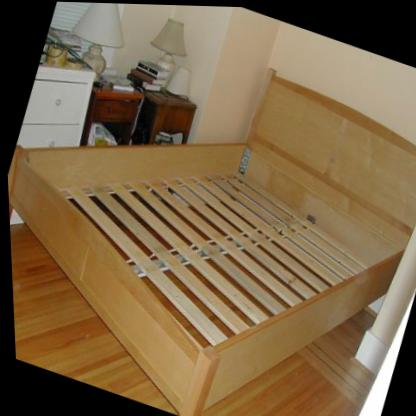Bed: (0, 0, 416, 416)
Wooden floor: (8, 223, 173, 414)
